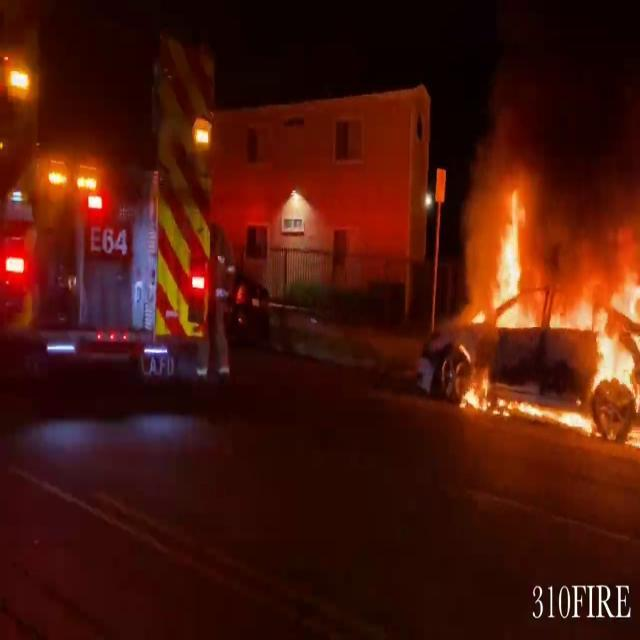Fire: (461, 190, 640, 436)
Smoke: (459, 1, 640, 279)
